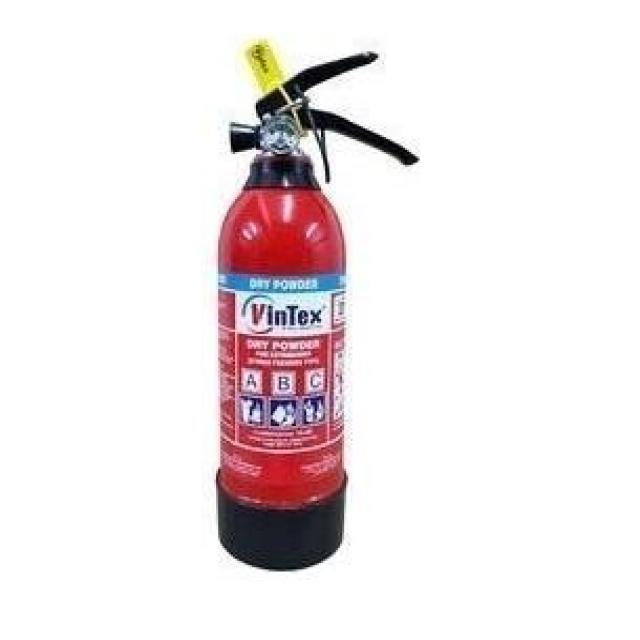fire_extinguisher: (206, 32, 420, 572)
